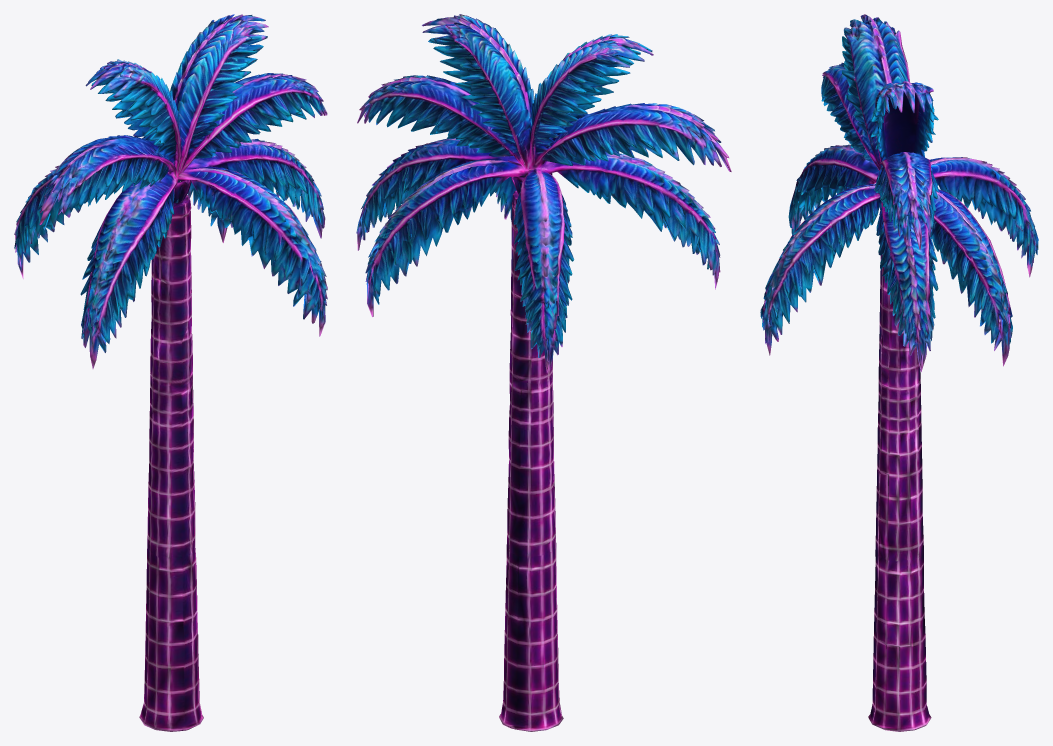
File: neon-palm-v001.glb
3 views of the same model, side by side, from view 1: azimuth 30°, elevation 25°; view 2: azimuth 150°, elevation 25°; view 3: azimuth 270°, elevation 25° (orthographic). The views are drawn at different scales.
Parts seen in each view (by area): view 1: tripo_node_053f0164-4966-4867-8e72-63102180b8f6; view 2: tripo_node_053f0164-4966-4867-8e72-63102180b8f6; view 3: tripo_node_053f0164-4966-4867-8e72-63102180b8f6.
Boxes of the visible parts, x1,y1,x2,y2 form: tripo_node_053f0164-4966-4867-8e72-63102180b8f6: (14,14,327,731); tripo_node_053f0164-4966-4867-8e72-63102180b8f6: (356,14,731,731); tripo_node_053f0164-4966-4867-8e72-63102180b8f6: (760,14,1038,731).
Size of the model in its own units: 0.4935 by 0.9799 by 0.3698.
1 material, 1 textured.
